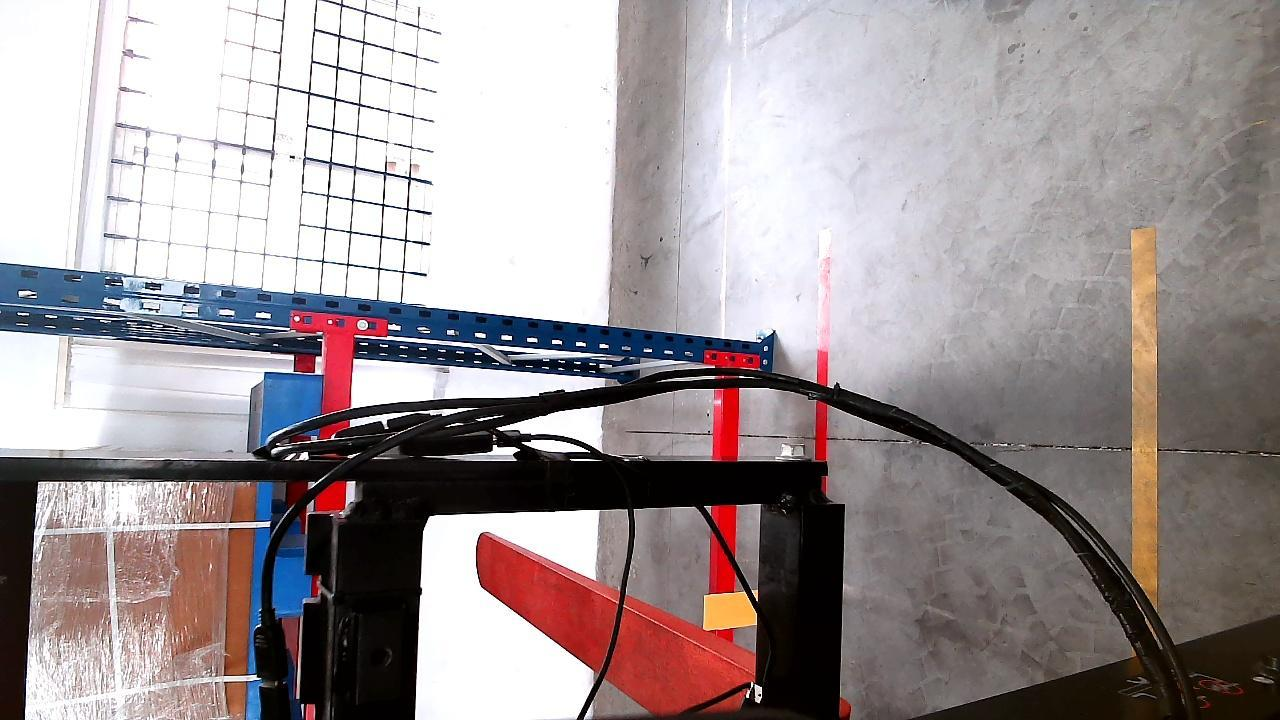red_line: (812, 243, 835, 492)
yellow_line: (1130, 217, 1161, 615)
